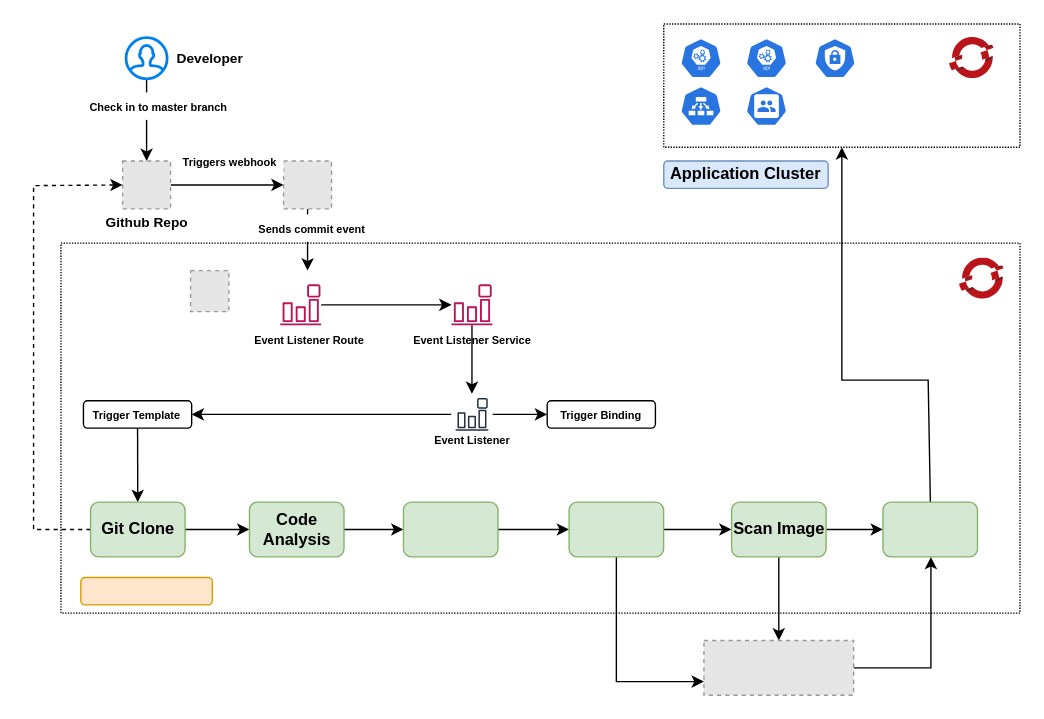
Some shapes in this 1044 by 719 pixel diagram are drawn without their labels. Grey dashed boxes stand in for pictures. Each missing label, with the centre of its shape:
"Build" belongs at (450,529).
"Deploy" belongs at (929,529).
"Push Image" belongs at (616,529).
"Tekton Pipeline" belongs at (145,590).
